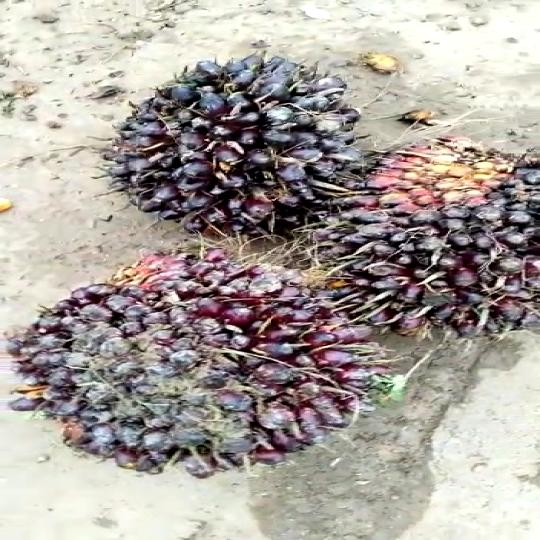kurang masak: (0, 245, 385, 480), (291, 129, 540, 343), (128, 49, 347, 242)
